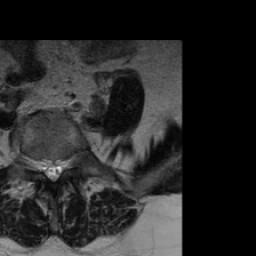CCS_normal: (49, 149, 57, 187)
LFS_normal: (64, 148, 73, 177)
LLS_normal: (57, 151, 64, 180)
RFS_normal: (32, 149, 41, 178)
RLS_normal: (41, 151, 49, 181)
